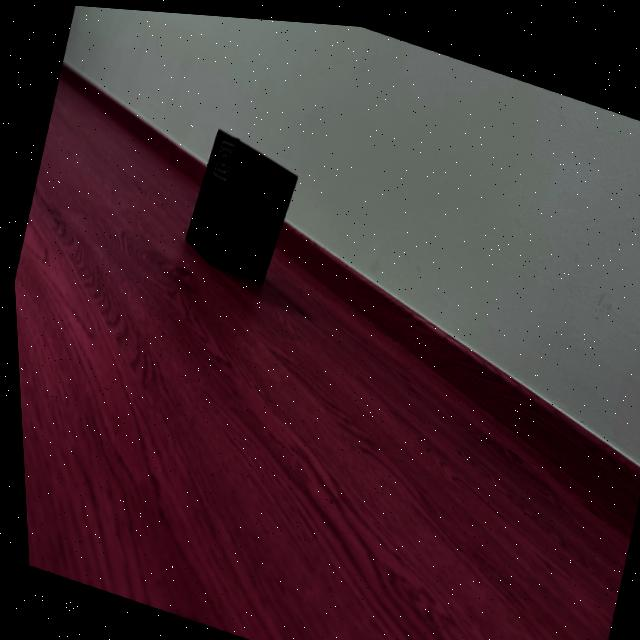BULLSEYE: (207, 130, 239, 187)
